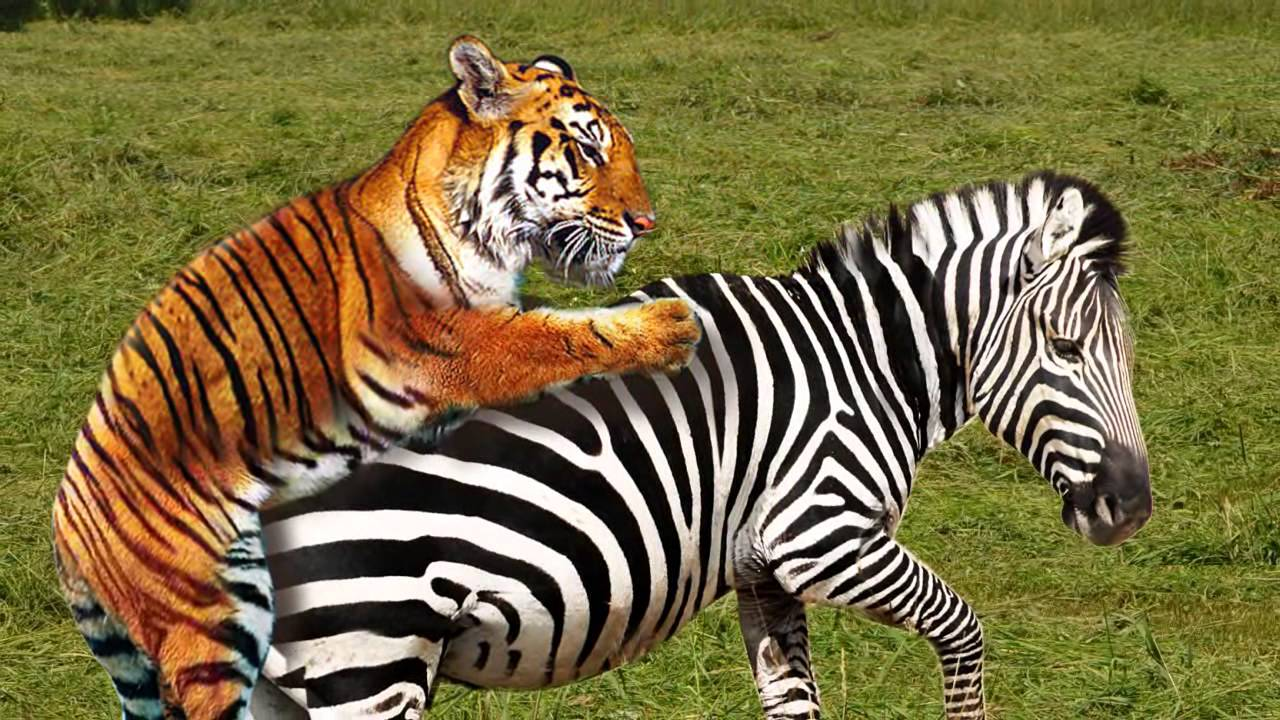tiger: (54, 26, 694, 700)
zebra: (218, 158, 1162, 720)
